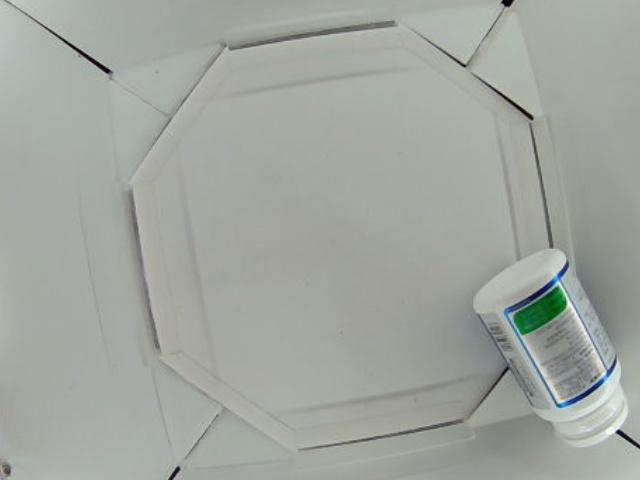Bottle: (472, 242, 635, 446)
